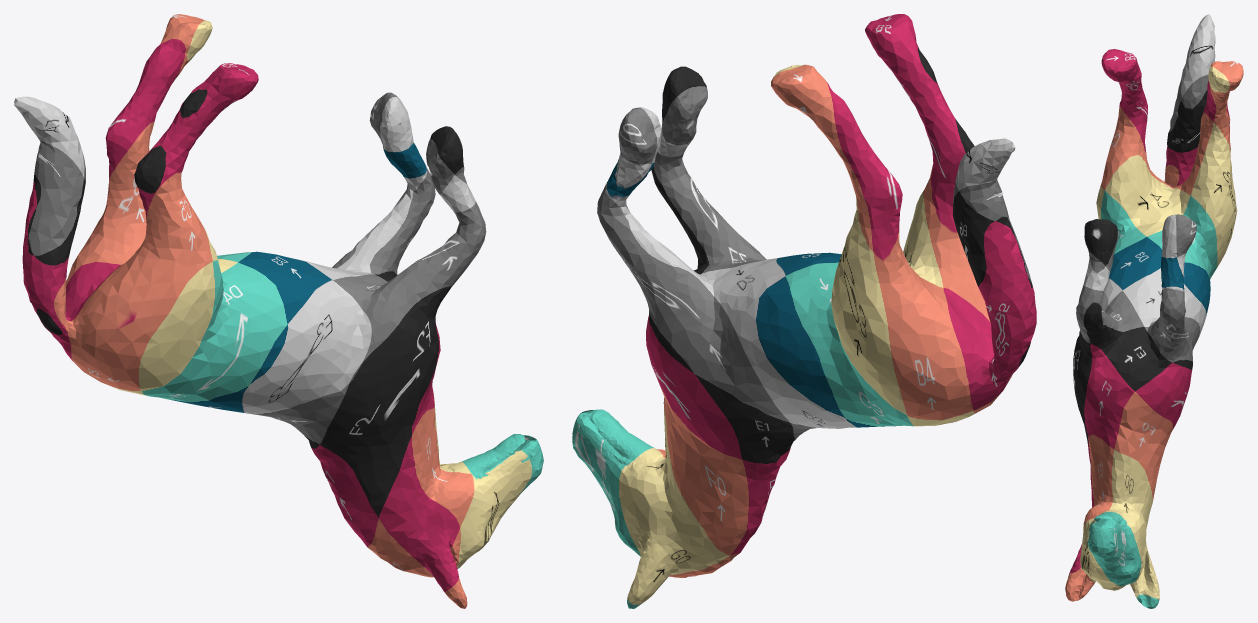
The model's file is fox_01-horse_08.obj.
The picture shows the model from 3 angles, left to right: view 1: azimuth 30°, elevation 25°; view 2: azimuth 150°, elevation 25°; view 3: azimuth 270°, elevation 25°; orthographic projection. The views are drawn at different scales.
Parts seen in each view (by area): view 1: fox_01-horse_08_export; view 2: fox_01-horse_08_export; view 3: fox_01-horse_08_export.
Part boxes in pixels (<box>): fox_01-horse_08_export: <box>14,14,543,608</box>; fox_01-horse_08_export: <box>572,14,1036,608</box>; fox_01-horse_08_export: <box>1065,14,1243,608</box>.
Bounding box in the file's own units: 0.8288 × 0.9724 × 0.3354.
